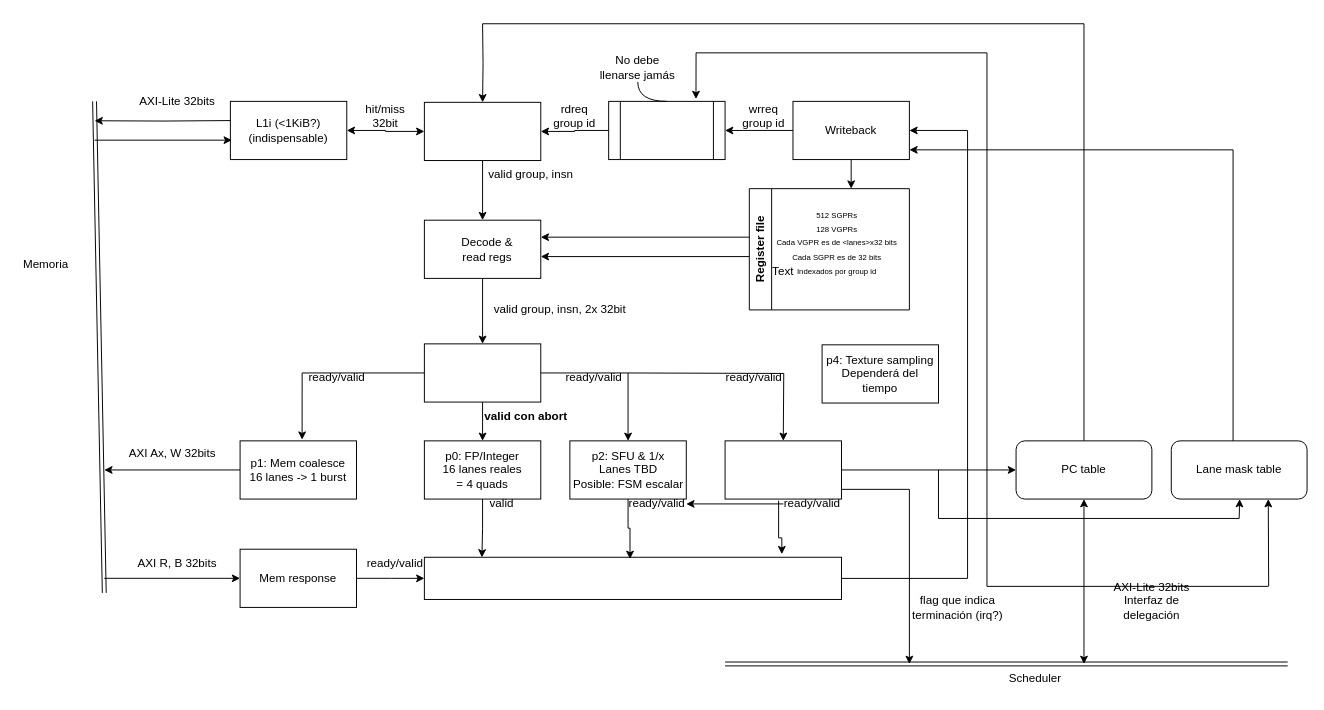
This 1324x710 diagram has some shape labels left out. The shapes that lost their labels are listed below. From the top down, each one's centre as x and y in pixels, then its label:
the point at 482,131: Fetch
the point at 666,130: Runnable group SCFIFO
the point at 482,372: Issue/dispatch
the point at 782,469: p3: Group ops Voto y consenso
the point at 632,577: Árbitro, siempre prioriza p0
